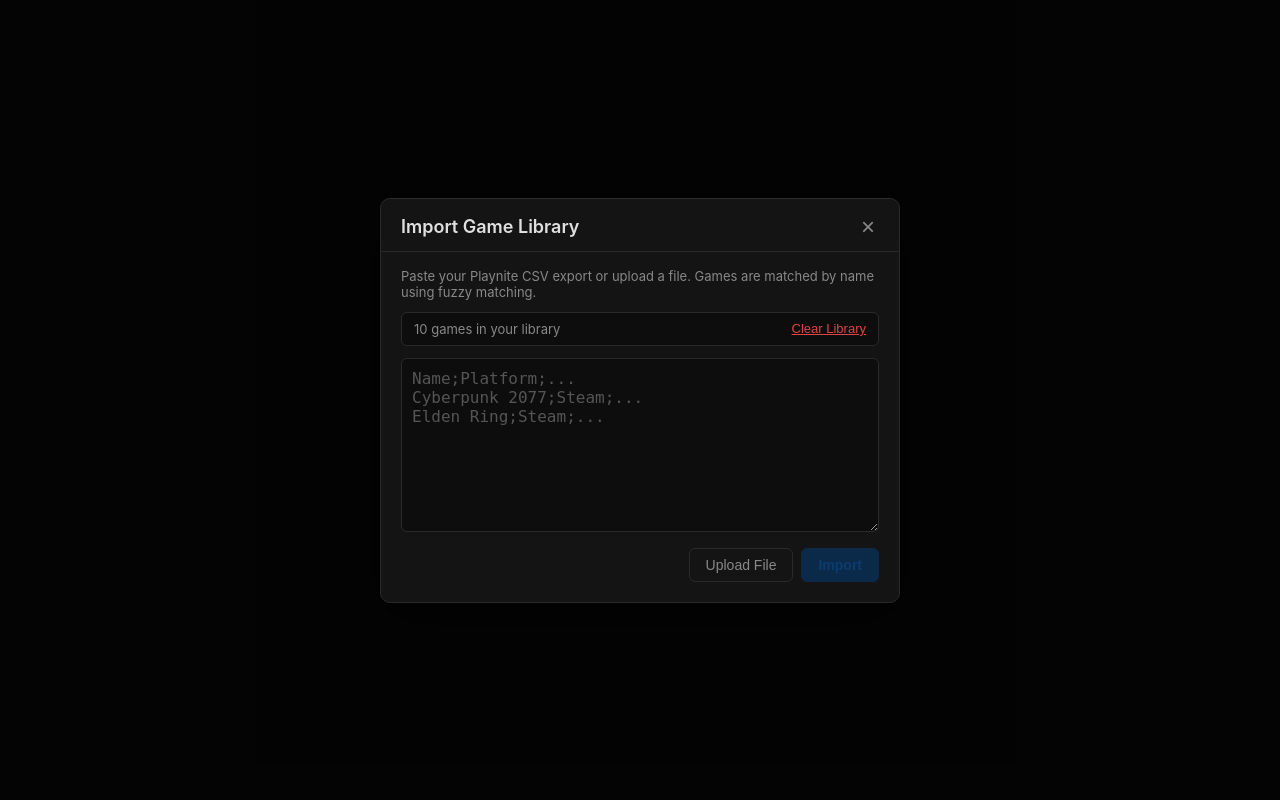
Test: ImportModal component › Clear Library requires confirmation
Step 1. Click the button "Clear Library" → (829, 328), box [792,321,866,336]
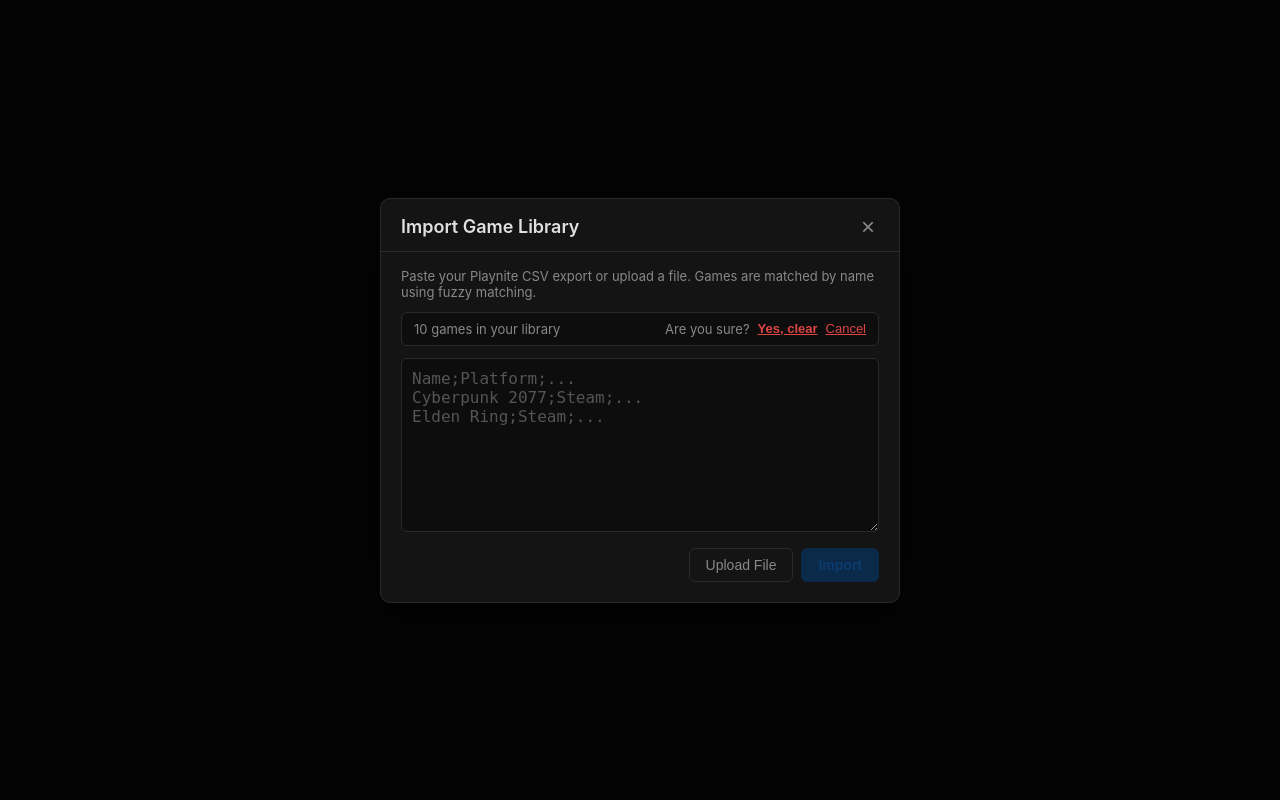
Expected: the text "Are you sure?" is shown, [665,320,750,336]
